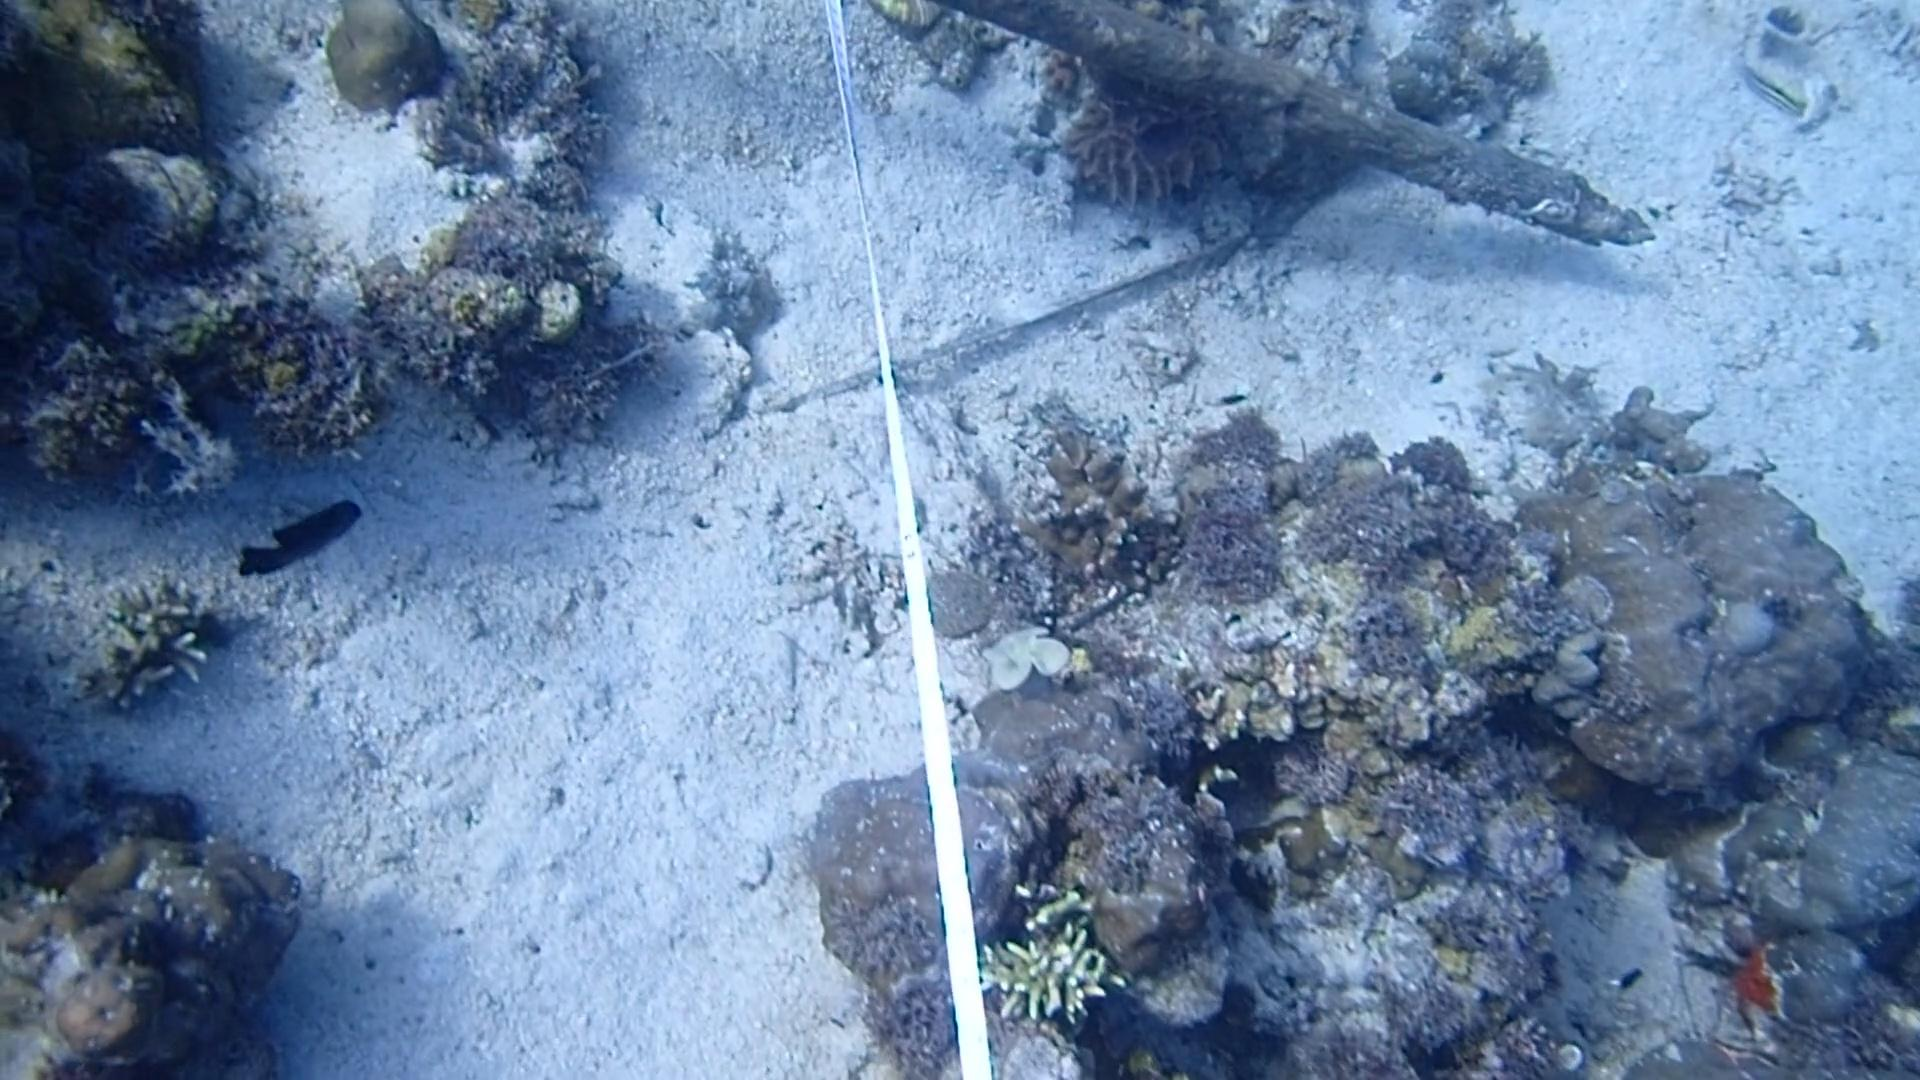Dark Fish: (231, 495, 363, 580)
Striped Fish: (1722, 53, 1821, 127)
